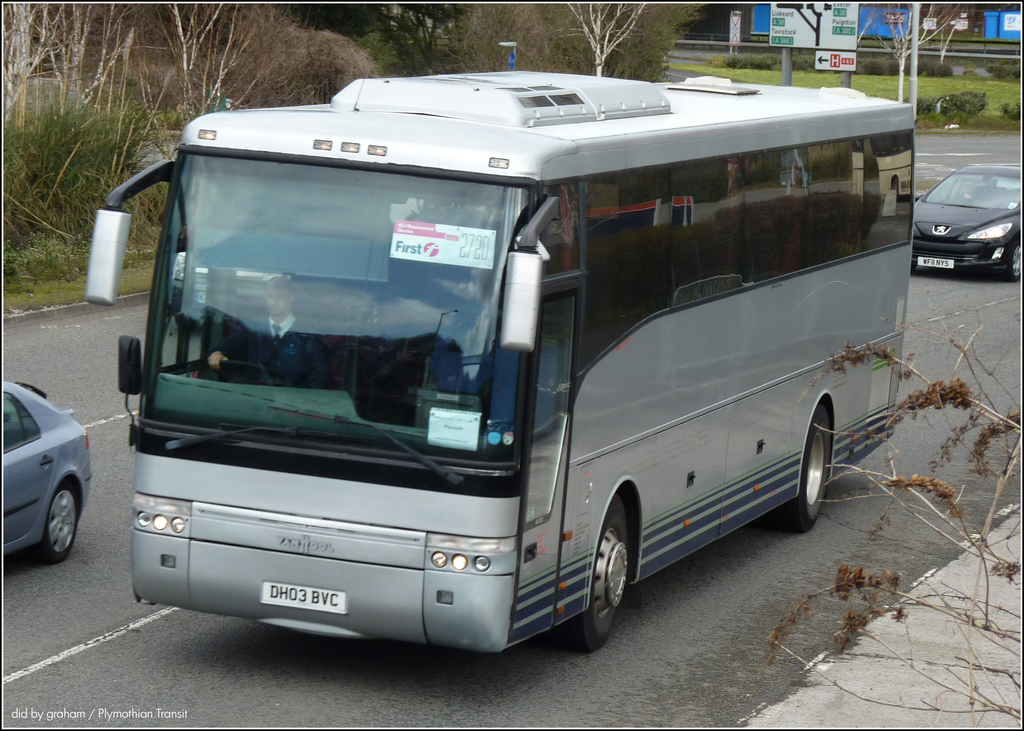Bus: (85, 67, 918, 654)
